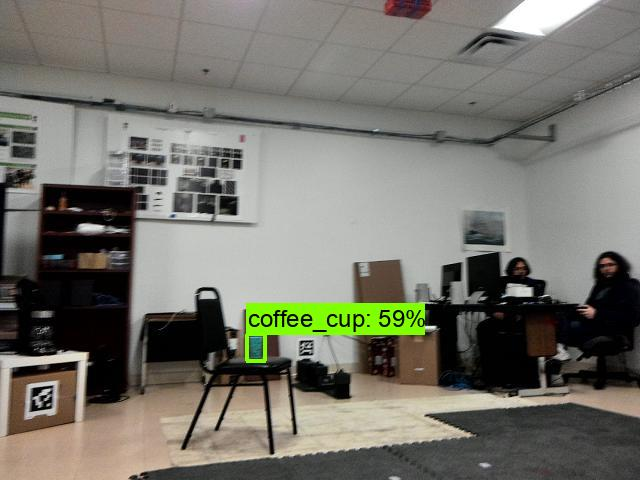coffee_cup: (246, 334, 266, 360)
